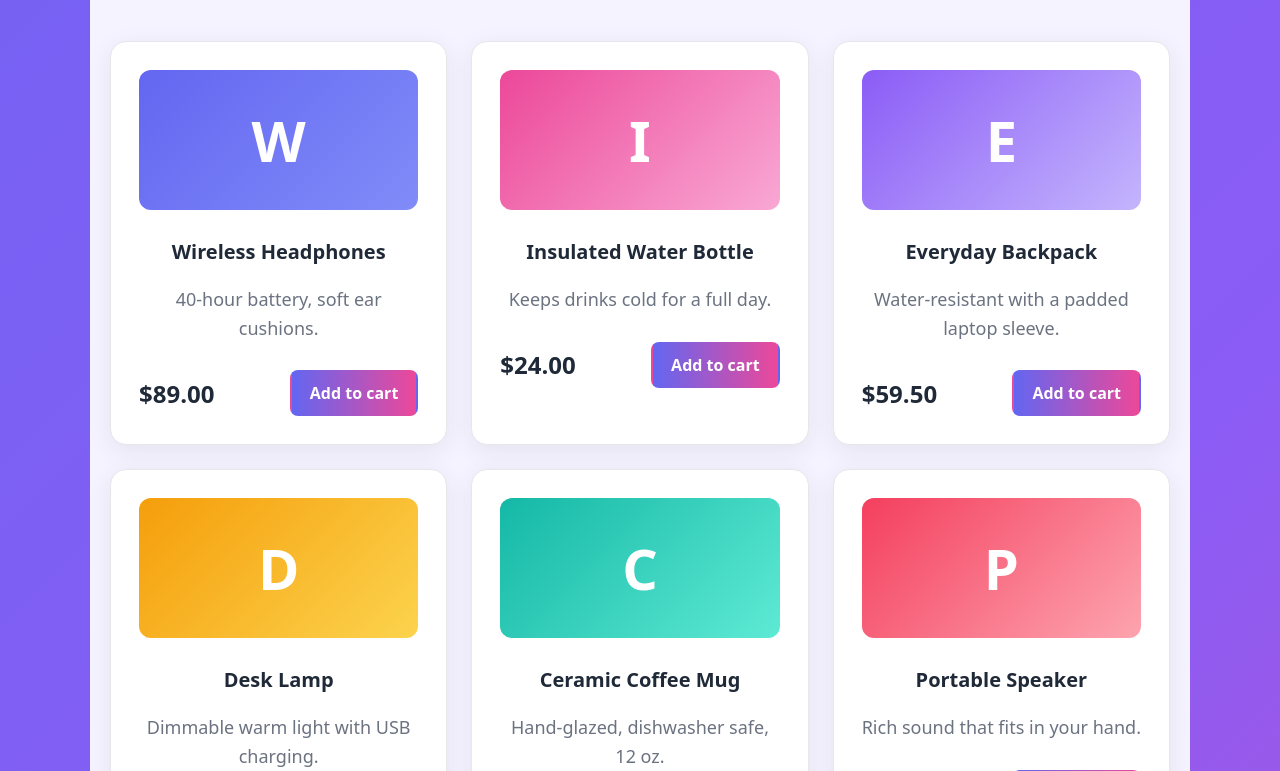
it: AC-15 add to cart requires login
The width and height of the screenshot is (1280, 771).
(page scrolled)
Click the button "Add to cart" next to "$89.00" at (354, 393), box [290,370,418,416]
(page scrolled)
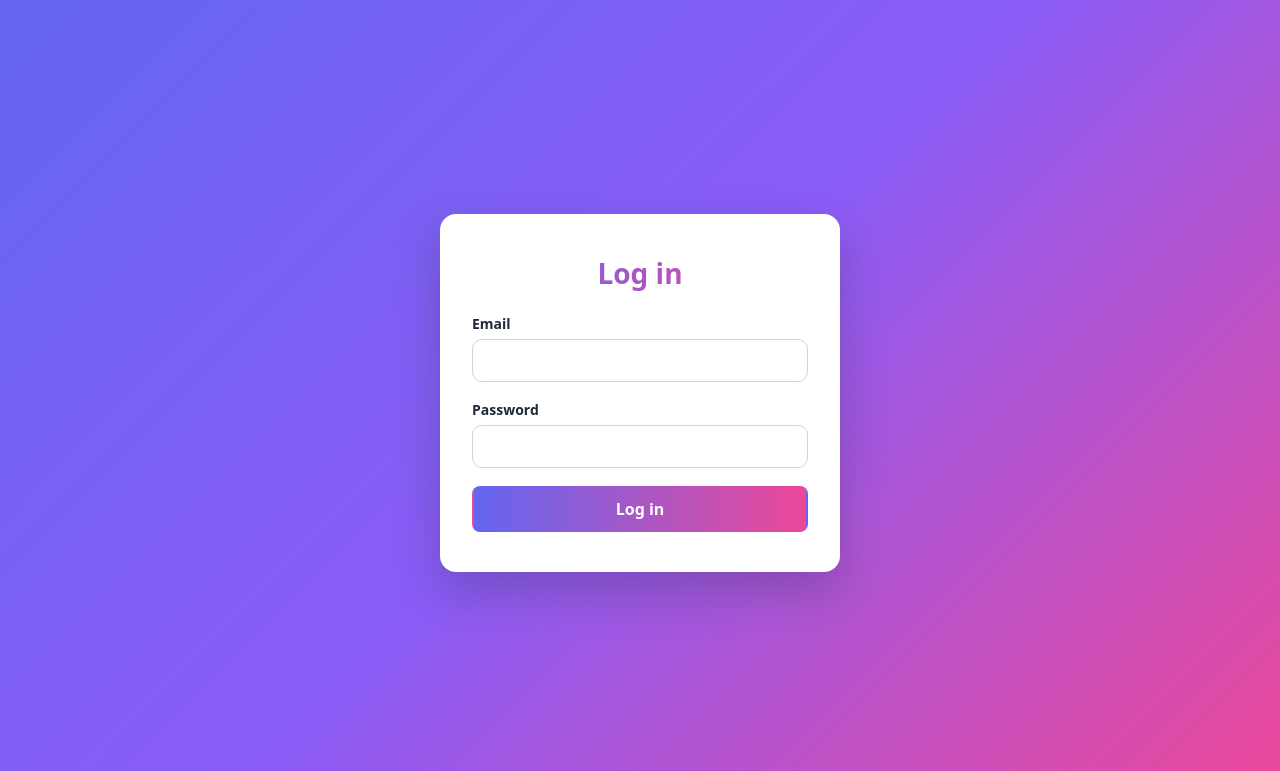
Now the field labelled "Email" is shown, box [472,339,808,382]
